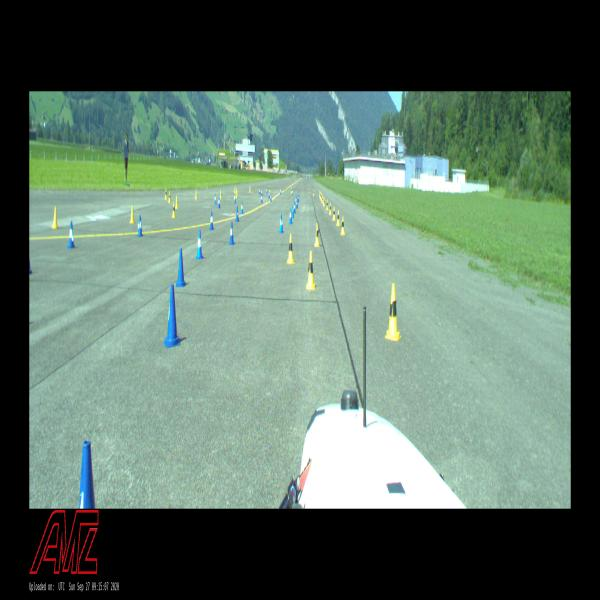blue_cone: (163, 284, 181, 348), (79, 440, 95, 508), (175, 248, 186, 288), (196, 229, 203, 260), (68, 221, 75, 249), (228, 221, 234, 245), (137, 214, 143, 238), (279, 214, 284, 233), (209, 212, 214, 230), (235, 206, 239, 222), (288, 208, 292, 224), (240, 201, 244, 214), (214, 193, 217, 204), (233, 193, 236, 204), (292, 204, 294, 219), (218, 196, 220, 209), (294, 201, 296, 213), (296, 198, 298, 209), (261, 194, 263, 203), (270, 193, 272, 202), (298, 189, 300, 198), (268, 190, 270, 198), (298, 194, 300, 202), (261, 189, 263, 196), (259, 188, 261, 195), (266, 188, 268, 195), (280, 188, 282, 195), (295, 195, 296, 204), (292, 188, 293, 196)
yellow_cone: (385, 283, 401, 341), (306, 250, 316, 290), (287, 234, 295, 264), (314, 223, 320, 247), (52, 206, 58, 229), (130, 205, 134, 224), (341, 216, 345, 235), (172, 201, 176, 218), (336, 209, 340, 226), (332, 207, 336, 220), (164, 188, 168, 199), (194, 189, 198, 200), (175, 195, 178, 209), (168, 190, 171, 203), (329, 203, 332, 215), (326, 199, 329, 210), (219, 189, 222, 199), (234, 185, 236, 194), (323, 197, 325, 206), (236, 190, 238, 198), (249, 184, 251, 192), (320, 193, 322, 201), (236, 188, 238, 195), (269, 186, 271, 193), (319, 190, 320, 198), (322, 195, 323, 203), (291, 186, 292, 194), (313, 189, 314, 196), (320, 192, 321, 199)
